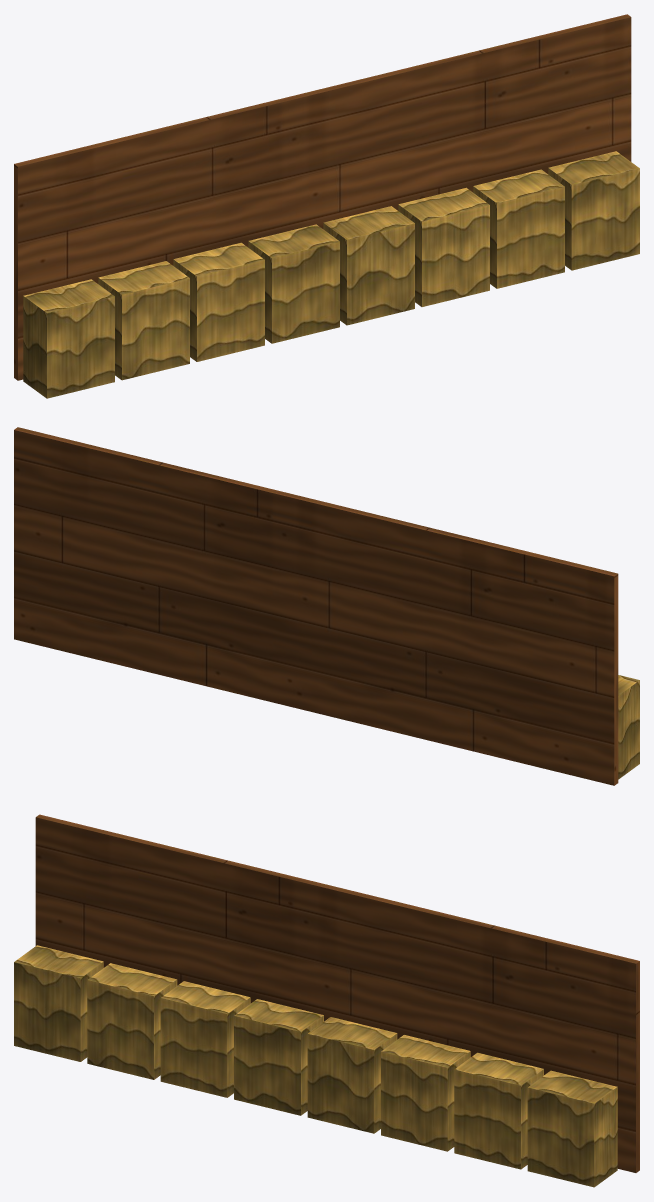
File: archery_backstop.glb
The picture shows the model from 3 angles, top to bottom: view 1: azimuth 30°, elevation 25°; view 2: azimuth 150°, elevation 25°; view 3: azimuth 330°, elevation 25°; orthographic projection. The views are drawn at different scales.
Visible parts, largest first — view 1: props_0_0; view 2: props_0_0; view 3: props_0_0.
Part boxes in pixels (box(x1,y1,x2,y2)): props_0_0: box(14, 14, 639, 398); props_0_0: box(14, 427, 639, 785); props_0_0: box(14, 814, 639, 1187).
Size of the model in its own units: 9 by 3 by 0.75.
Materials: 1 (1 with a texture image).
